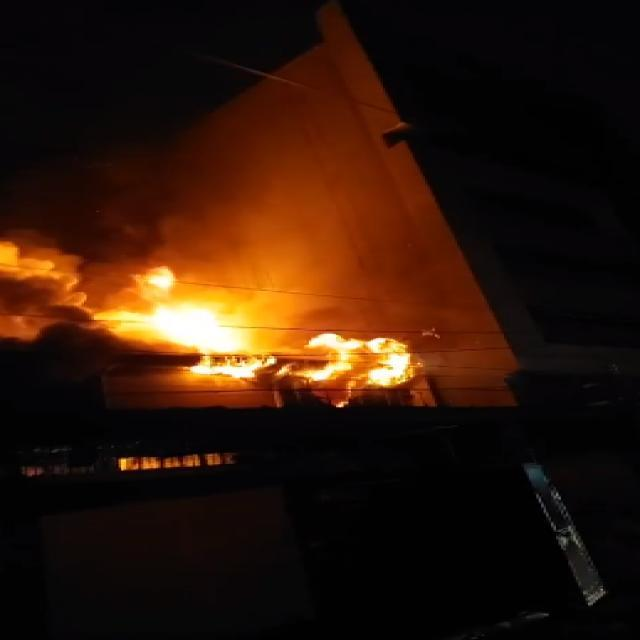Fire: (128, 282, 274, 377), (298, 330, 420, 388)
Smoke: (0, 227, 173, 377)
